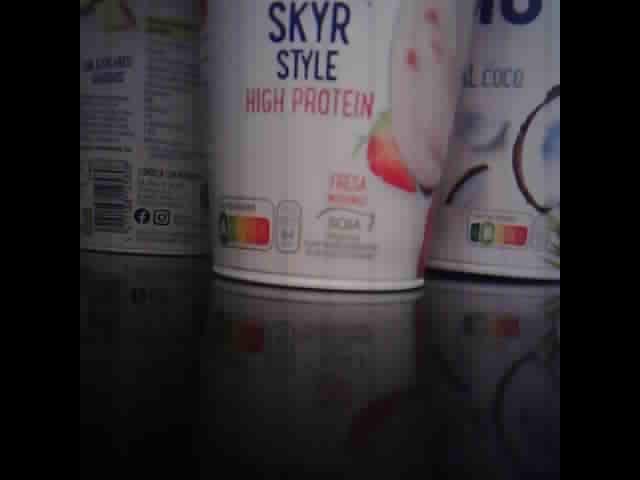alpro: (201, 1, 475, 295), (424, 1, 559, 282), (78, 1, 208, 259)
